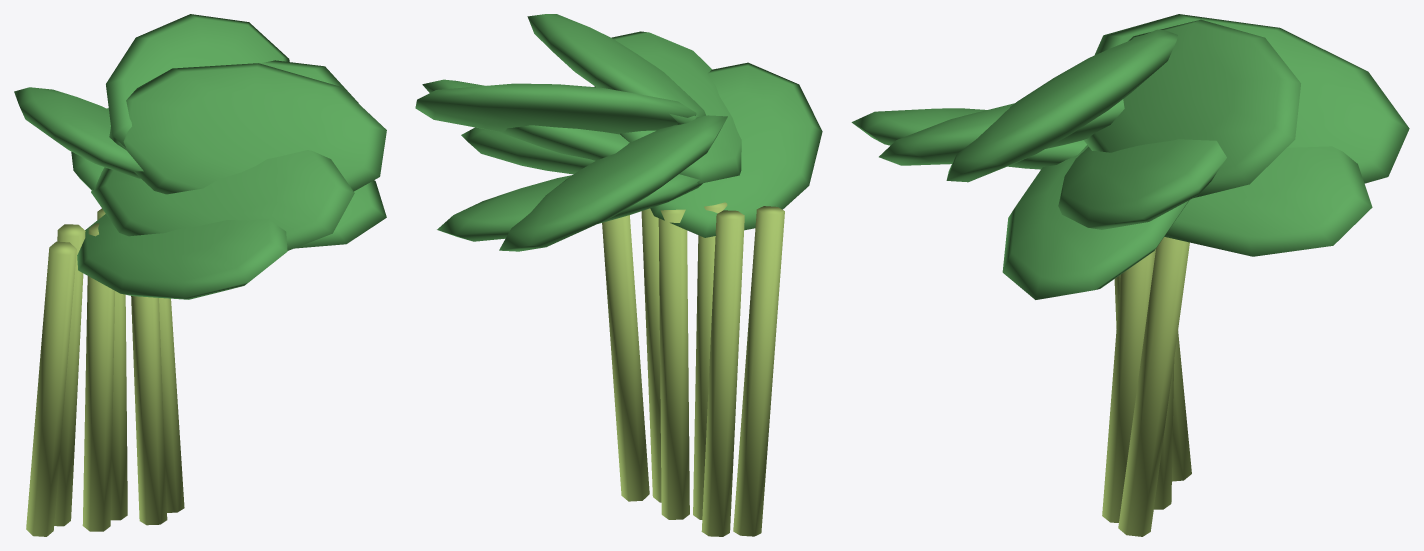
The model's file is Food_bayam.fbx.
3 renders of one model, left to right at view 1: azimuth 30°, elevation 25°; view 2: azimuth 150°, elevation 25°; view 3: azimuth 270°, elevation 25°, orthographic. The views are drawn at different scales.
Parts seen in each view (by area): view 1: Food_bayam; view 2: Food_bayam; view 3: Food_bayam.
Part boxes in pixels (x1,y1,x2,y2): Food_bayam: (14,14,386,536); Food_bayam: (415,14,822,536); Food_bayam: (851,14,1409,536).
Bounding box in the file's own units: 0.067 × 0.0855 × 0.085.
